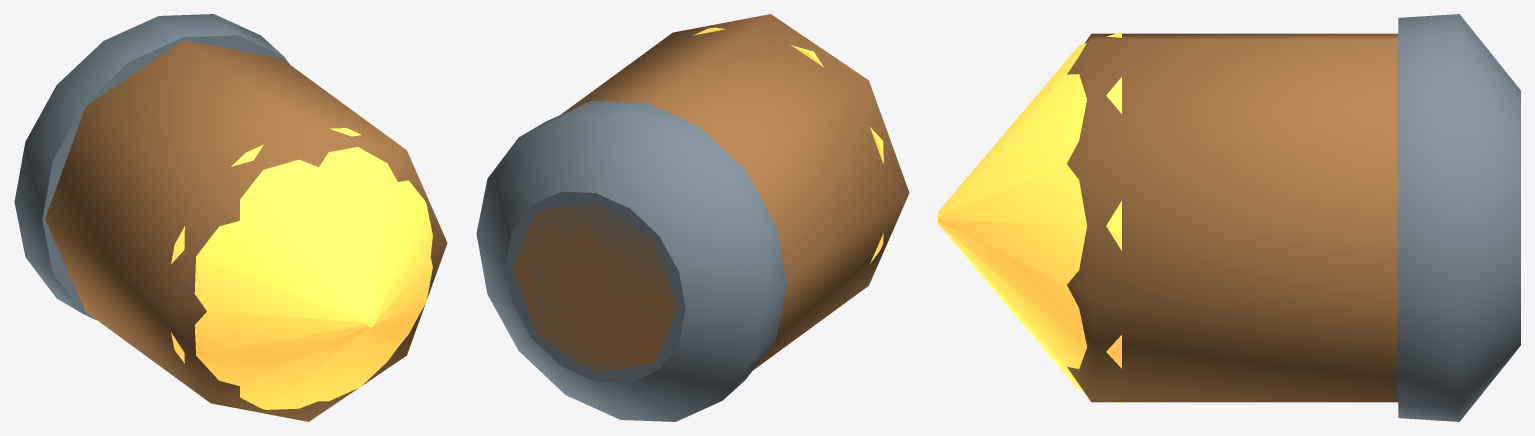
File: zb_shotgun_close.glb
3 views of the same model, side by side, from view 1: azimuth 30°, elevation 25°; view 2: azimuth 150°, elevation 25°; view 3: azimuth 270°, elevation 25° (orthographic). The views are drawn at different scales.
Parts seen in each view (by area): view 1: zb_shotgun_close / Copper driving band, zb_shotgun_close / Tracer ember, zb_shotgun_close / Machined titanium; view 2: zb_shotgun_close / Copper driving band, zb_shotgun_close / Machined titanium, zb_shotgun_close / Tracer ember; view 3: zb_shotgun_close / Copper driving band, zb_shotgun_close / Machined titanium, zb_shotgun_close / Tracer ember.
Boxes of the visible parts, bbox=[...] form: zb_shotgun_close / Copper driving band: bbox=[45, 40, 447, 421]; zb_shotgun_close / Tracer ember: bbox=[171, 128, 432, 409]; zb_shotgun_close / Machined titanium: bbox=[14, 14, 289, 320]; zb_shotgun_close / Copper driving band: bbox=[512, 14, 909, 373]; zb_shotgun_close / Machined titanium: bbox=[476, 100, 786, 421]; zb_shotgun_close / Tracer ember: bbox=[693, 27, 888, 263]; zb_shotgun_close / Copper driving band: bbox=[1067, 33, 1398, 402]; zb_shotgun_close / Machined titanium: bbox=[1398, 14, 1520, 421]; zb_shotgun_close / Tracer ember: bbox=[938, 32, 1121, 403].
Bounding box in the file's own units: 6.66 × 6.66 × 9.5.
